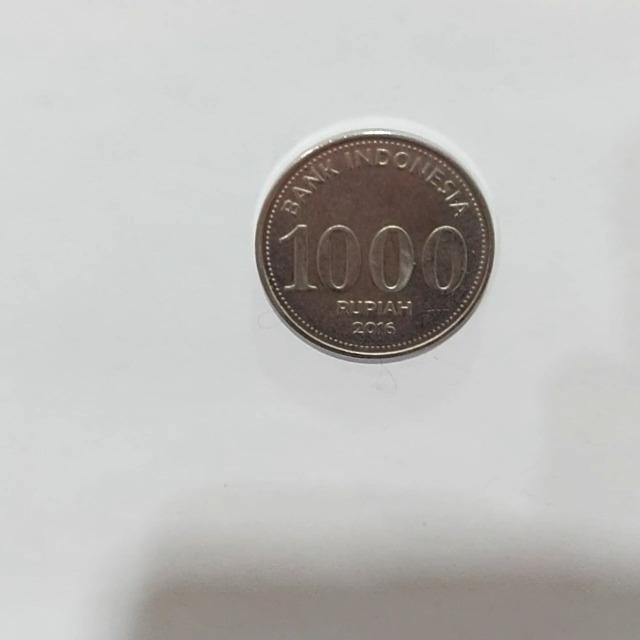Rp100: (253, 123, 496, 365)
